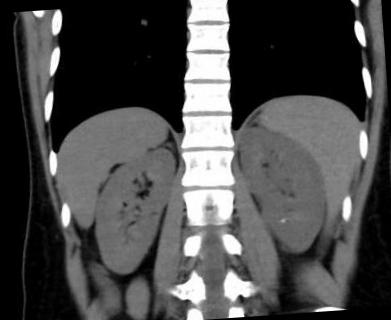Tas_Var: (278, 216, 288, 225)
